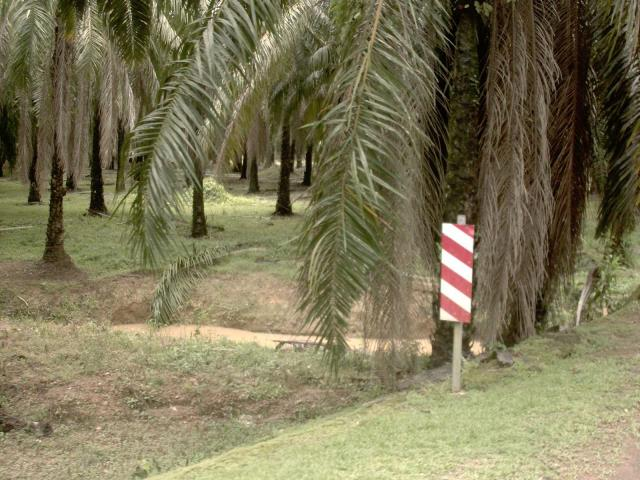traffic_sign: (428, 212, 486, 334)
